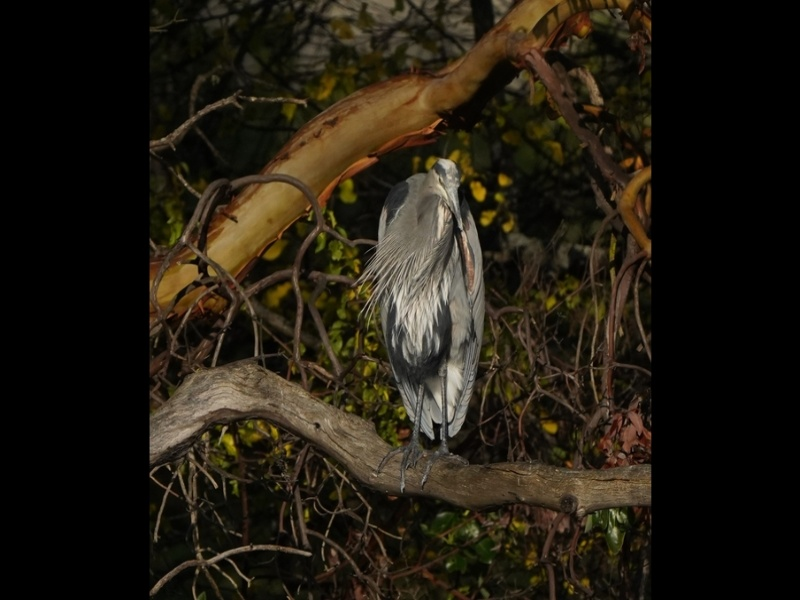heron: (367, 157, 490, 492)
